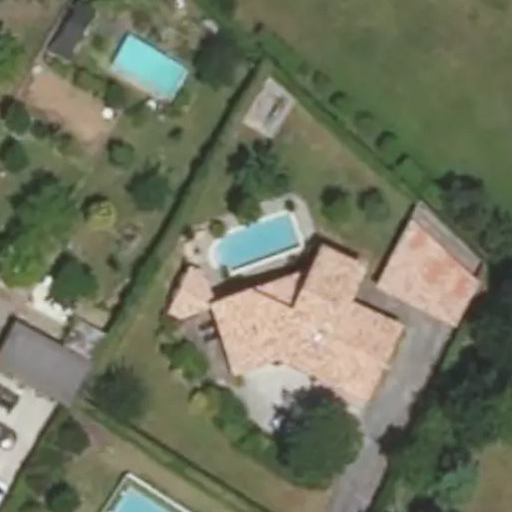pool: (205, 243, 301, 246)
